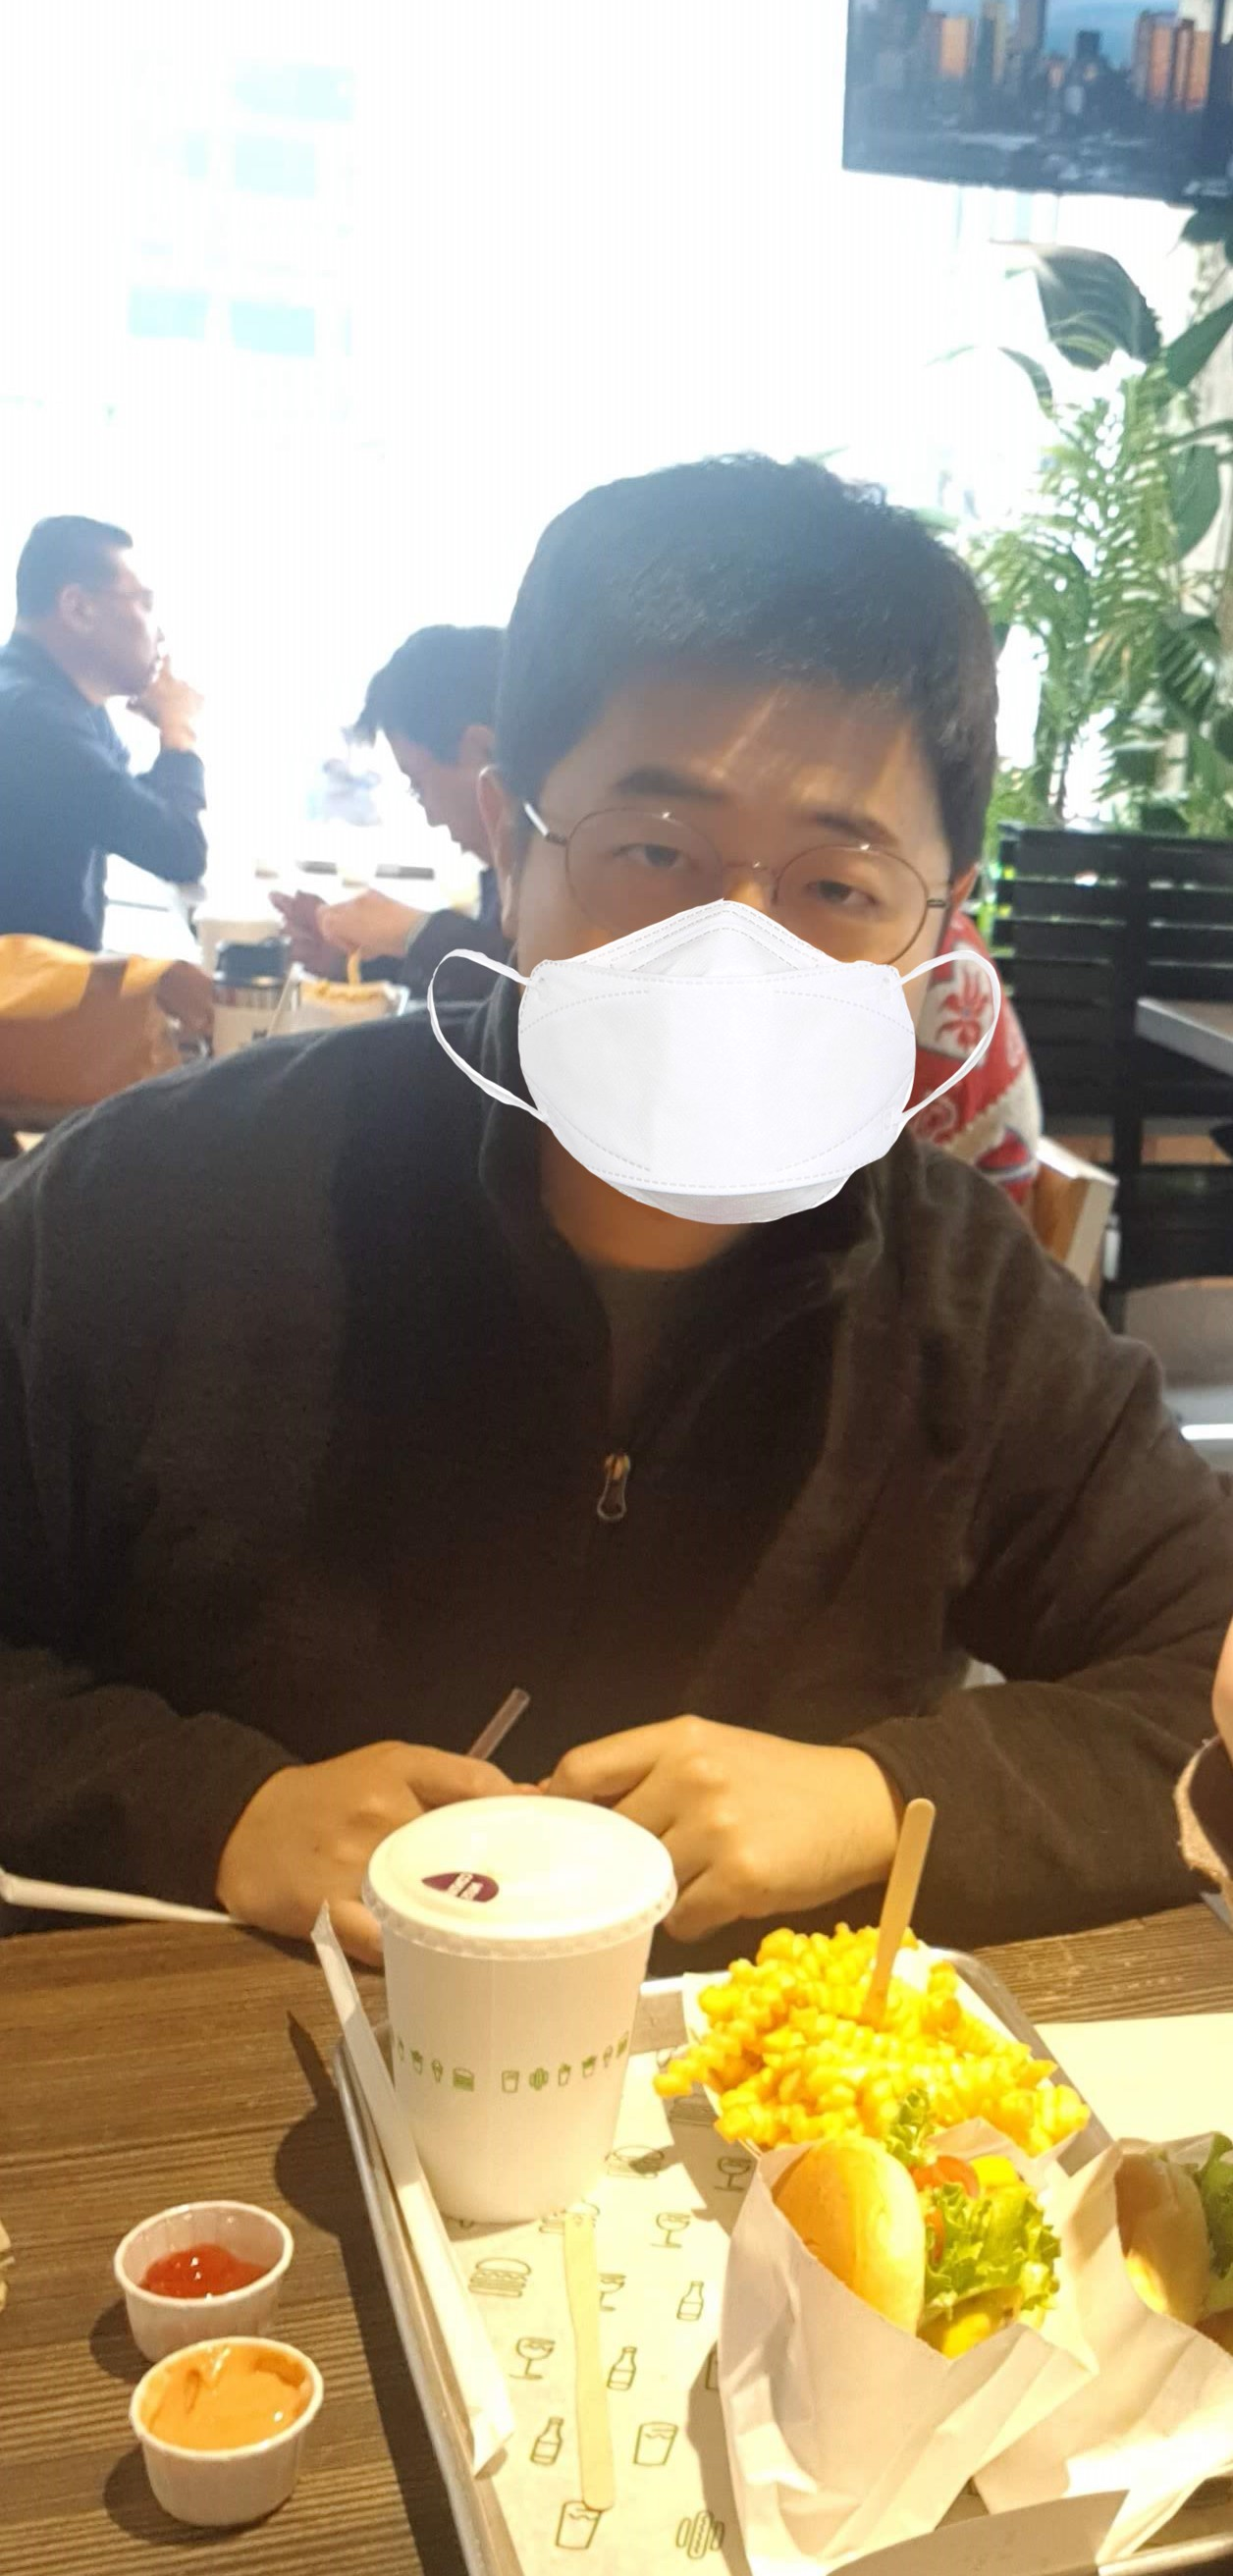mask: (530, 646, 954, 1224)
